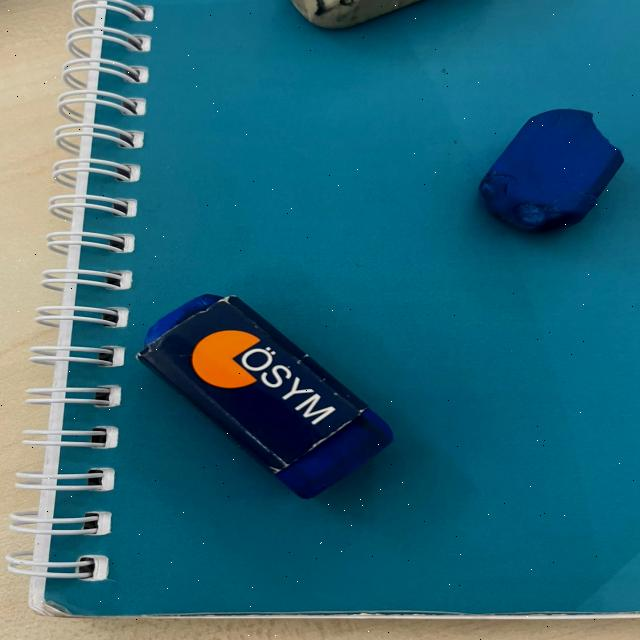eraser: (119, 284, 415, 510), (474, 93, 622, 255), (276, 0, 498, 33)
